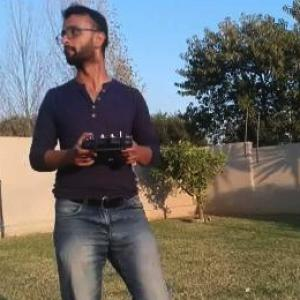follow: (21, 1, 174, 299)
